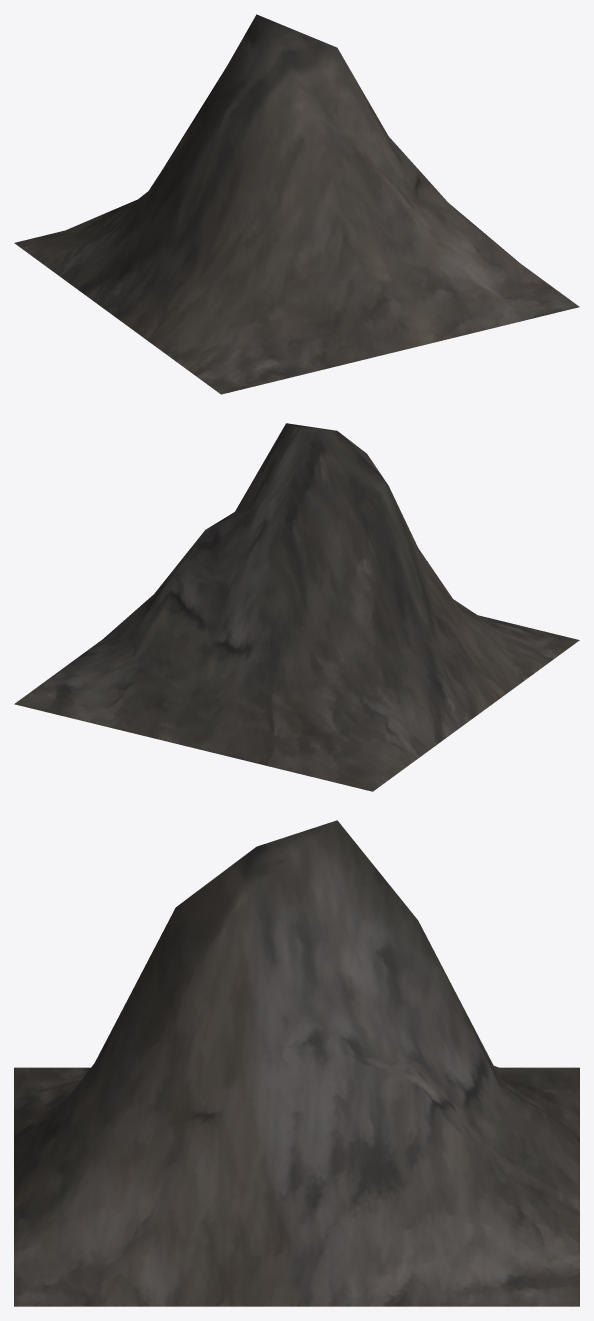
Rendered from rock4.fbx.
The picture shows the model from 3 angles, top to bottom: view 1: azimuth 30°, elevation 25°; view 2: azimuth 150°, elevation 25°; view 3: azimuth 270°, elevation 25°; orthographic projection. The views are drawn at different scales.
Parts seen in each view (by area): view 1: Landscape; view 2: Landscape; view 3: Landscape.
Boxes of the visible parts, x1,y1,x2,y2 form: Landscape: (14, 14, 579, 394); Landscape: (14, 423, 579, 791); Landscape: (14, 820, 579, 1306).
Bounding box in the file's own units: 10 × 6.82 × 10.
1 material, 1 textured.
